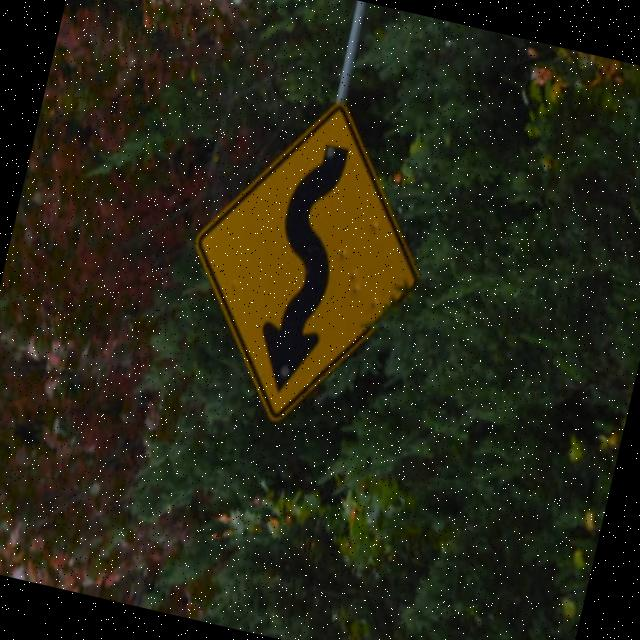left_sharp_curve: (155, 77, 466, 449)
